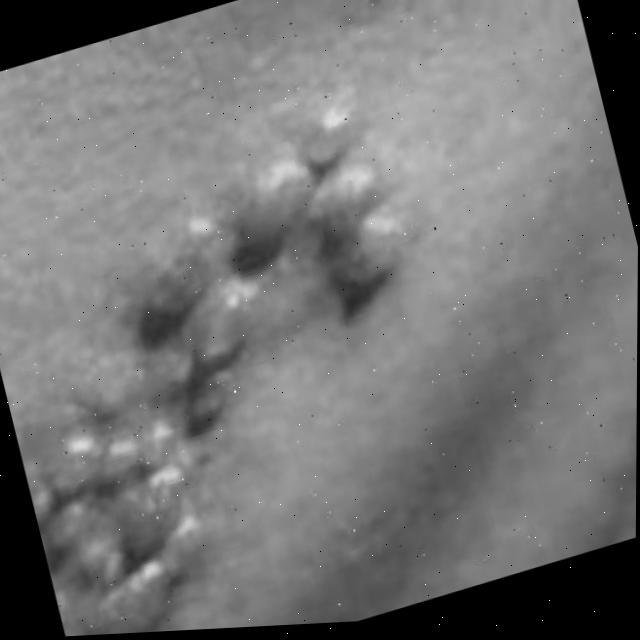Shingles: (0, 72, 500, 640)
